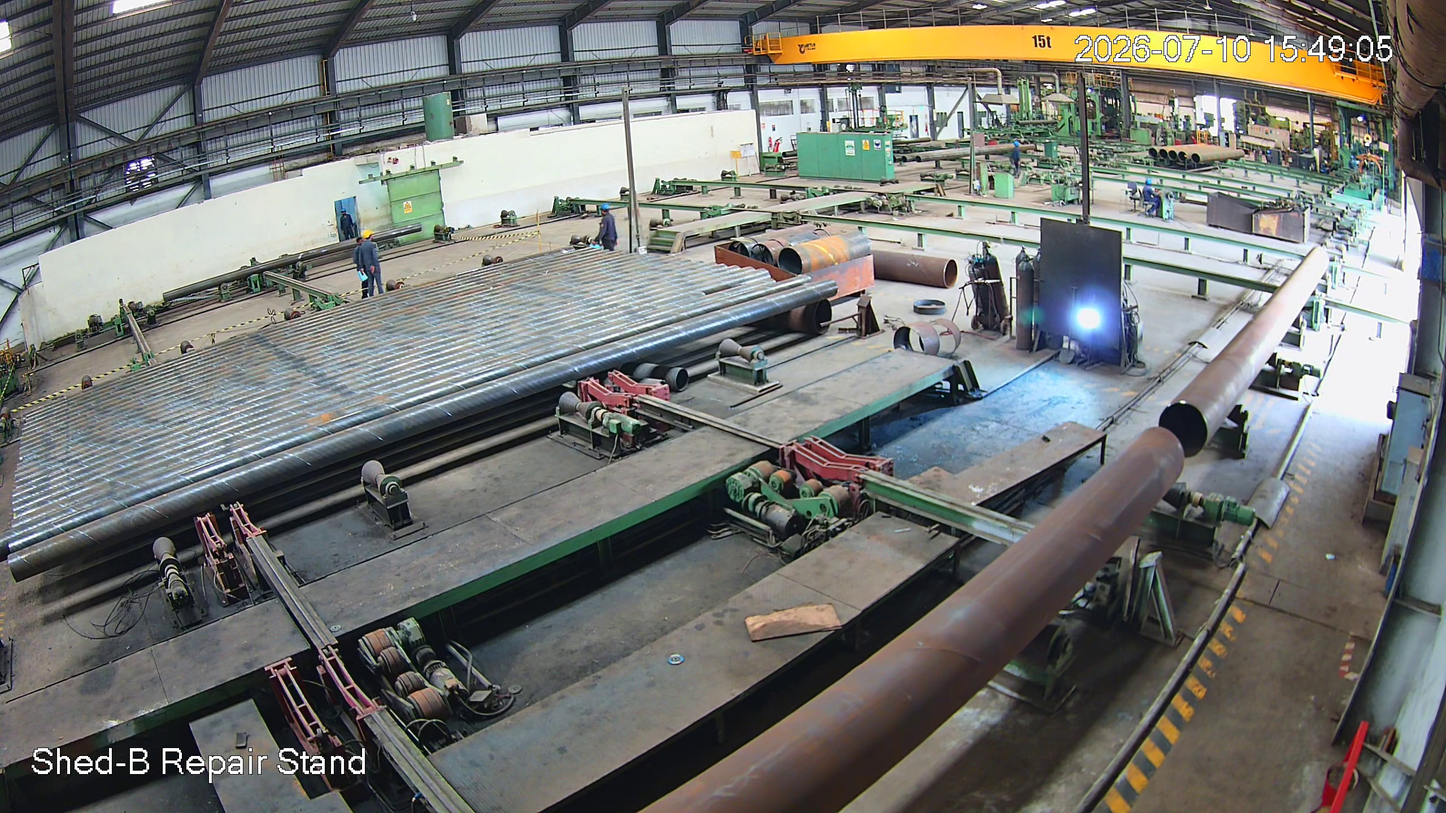Helmet: (360, 228, 382, 254), (598, 201, 613, 221)
Person: (356, 230, 387, 299), (596, 204, 620, 257)
